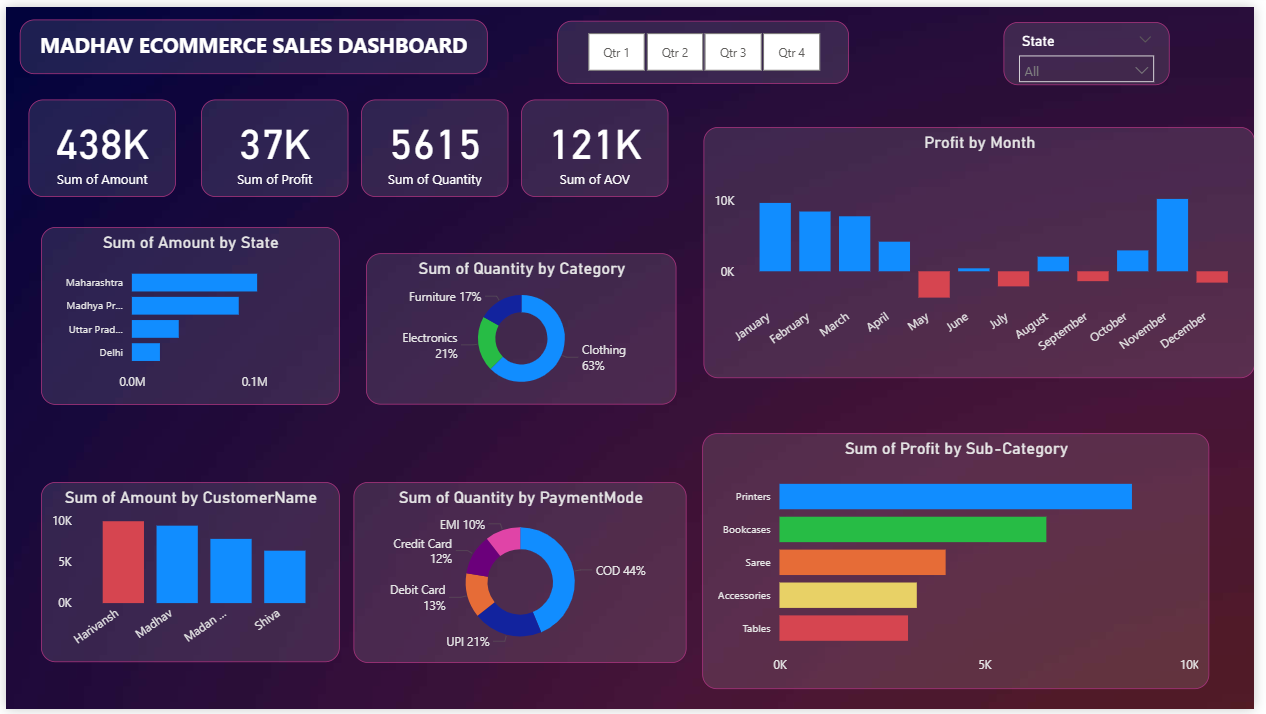

The page's visual inventory and layout, read from the dashboard file:
{"tool":"powerbi","page":{"name":"Page 1","canvas":[1280,720],"ordinal":0},"visuals":[{"type":"textbox","box":[13.7,12.3,480.3,56.3],"z":0},{"type":"columnChart","title":"Profit by Month","fields":{"Y":["Sum(Details.Profit)"],"Category":["Orders.Order Date.Variation.Date Hierarchy.Month"]},"box":[714.9,123.5,565.4,258],"z":1000},{"type":"barChart","fields":{"Category":["Details.Sub-Category"],"Y":["Sum(Details.Profit)"]},"box":[713.6,437.7,520.1,262.1],"z":2000},{"type":"donutChart","fields":{"Category":["Details.Category"],"Y":["Sum(Details.Quantity)"]},"box":[369.1,252.5,318.4,155.1],"z":3000},{"type":"donutChart","fields":{"Category":["Details.PaymentMode"],"Y":["Sum(Details.Quantity)"]},"box":[356.8,487.1,341.7,185.2],"z":4000},{"type":"card","fields":{"Values":["Sum(Details.Amount)"]},"box":[23.3,94.7,150.9,100.2],"z":5000},{"type":"card","fields":{"Values":["Sum(Details.Quantity)"]},"box":[363.6,94.7,150.9,100.2],"z":6000},{"type":"card","fields":{"Values":["Sum(Details.Profit)"]},"box":[200.3,94.7,150.9,100.2],"z":7000},{"type":"card","fields":{"Values":["Sum(Details.AOV)"]},"box":[528.3,94.7,150.9,100.2],"z":8000},{"type":"barChart","fields":{"Category":["Orders.State"],"Y":["Sum(Details.Amount)"]},"box":[35.7,225,306,182.5],"z":8001},{"type":"columnChart","fields":{"Category":["Orders.CustomerName"],"Y":["Sum(Details.Amount)"]},"box":[36,487,306,185],"z":8002},{"type":"slicer","fields":{"Values":["Orders.Order Date.Variation.Date Hierarchy.Quarter"]},"box":[565.4,13.7,299.1,64.5],"z":8003},{"type":"slicer","fields":{"Values":["Orders.State"]},"box":[1023.7,15.1,170.2,64.5],"z":8004}]}

Visuals, with their boxes in screenshot pixels (x1, y1, x2, y2), scaled from the page's 1280x720 canvas onto the 1266x714 screenshot:
textbox: region(14, 12, 489, 68)
"Profit by Month" columnChart: region(707, 122, 1265, 378)
barChart - Details.Sub-Category x Sum(Details.Profit): region(706, 434, 1220, 694)
donutChart - Details.Category x Sum(Details.Quantity): region(365, 250, 680, 404)
donutChart - Details.PaymentMode x Sum(Details.Quantity): region(353, 483, 691, 667)
card - Sum(Details.Amount): region(23, 94, 172, 193)
card - Sum(Details.Quantity): region(360, 94, 509, 193)
card - Sum(Details.Profit): region(198, 94, 347, 193)
card - Sum(Details.AOV): region(523, 94, 672, 193)
barChart - Orders.State x Sum(Details.Amount): region(35, 223, 338, 404)
columnChart - Orders.CustomerName x Sum(Details.Amount): region(36, 483, 338, 666)
slicer - Orders.Order Date.Variation.Date Hierarchy.Quarter: region(559, 14, 855, 78)
slicer - Orders.State: region(1013, 15, 1181, 79)
